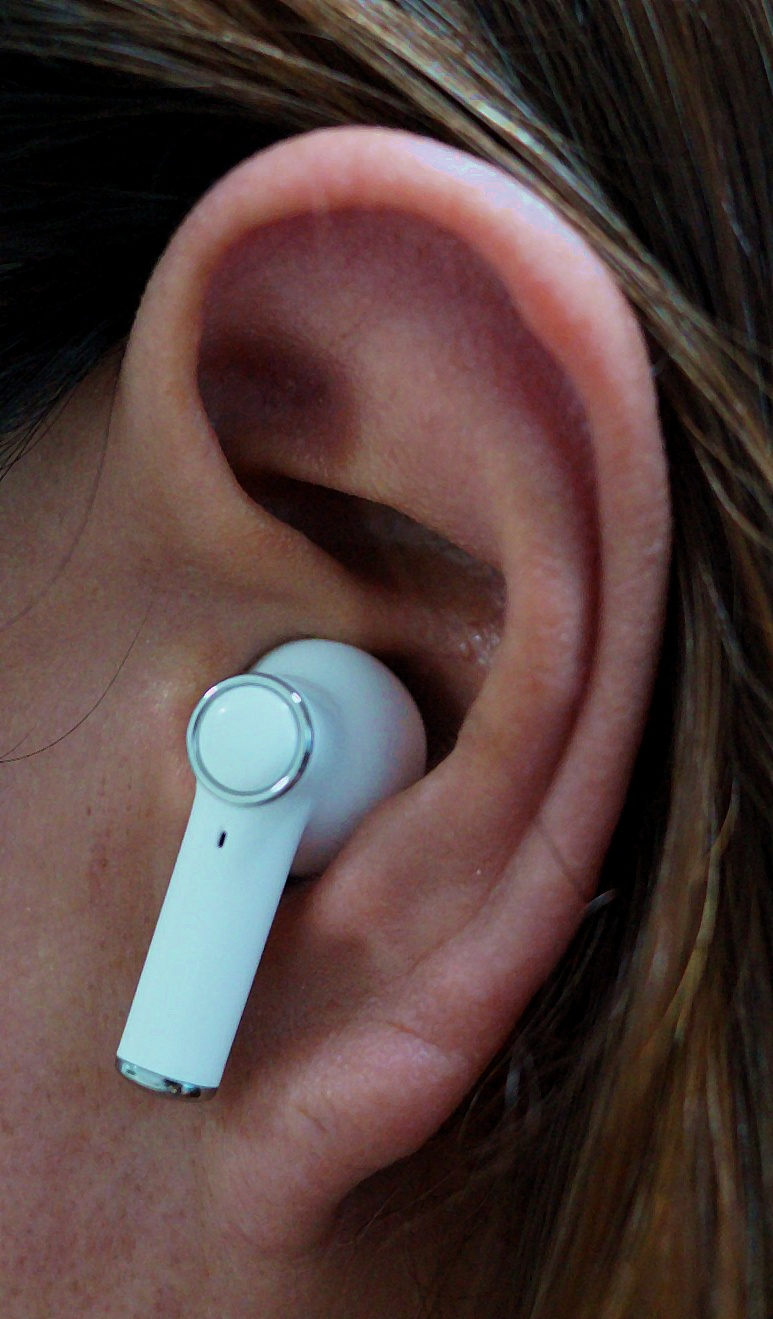earphone: (112, 126, 664, 1239)
